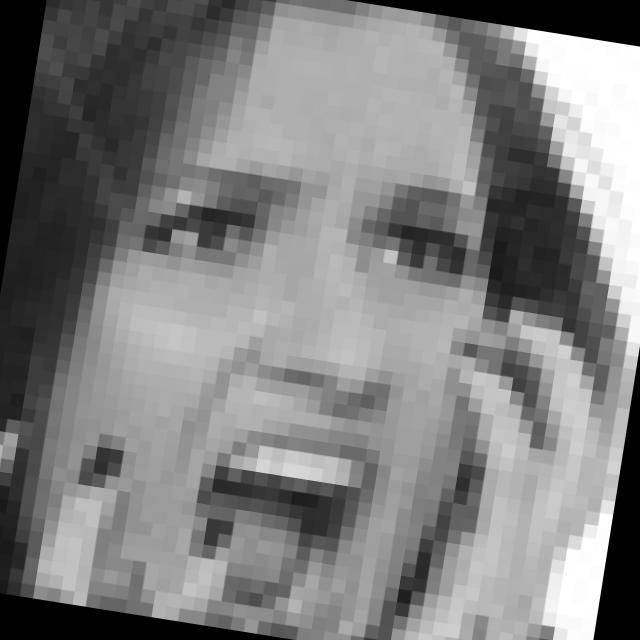fear: (72, 130, 494, 640)
